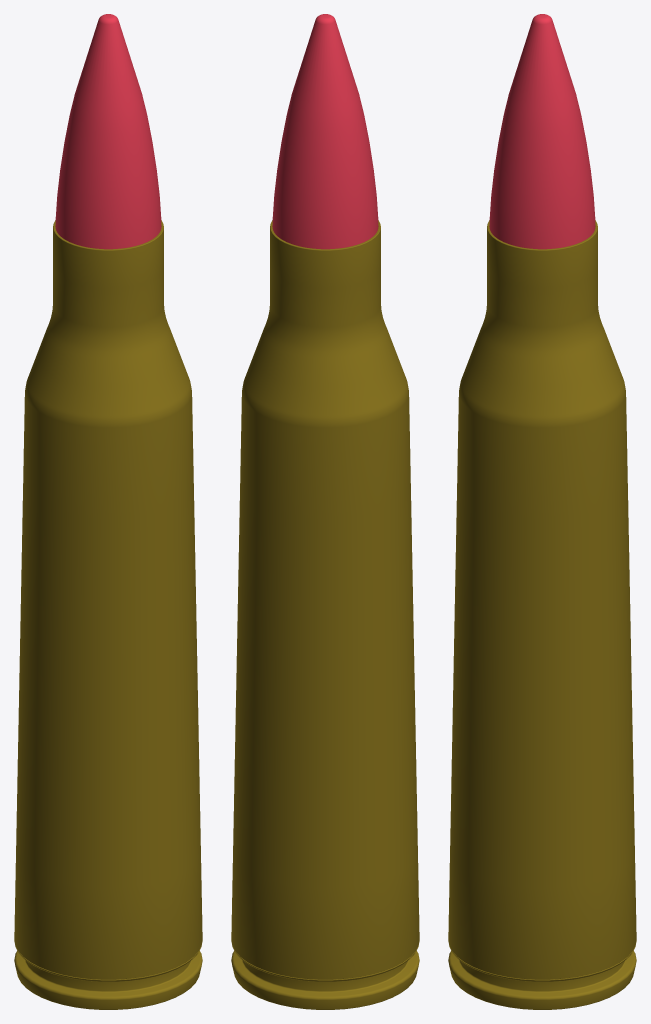
Rendered from ARAmmo.fbx.
3 views of the same model, side by side, from view 1: azimuth 30°, elevation 25°; view 2: azimuth 150°, elevation 25°; view 3: azimuth 270°, elevation 25° (orthographic).
Visible parts, largest first — view 1: Cylinder; view 2: Cylinder; view 3: Cylinder.
Part boxes in pixels (left/top/right/bottom): Cylinder: left=14, top=14, right=202, bottom=1009; Cylinder: left=231, top=14, right=419, bottom=1009; Cylinder: left=448, top=14, right=636, bottom=1009.
Size of the model in its own units: 0.5226 by 2.94 by 0.5241.
